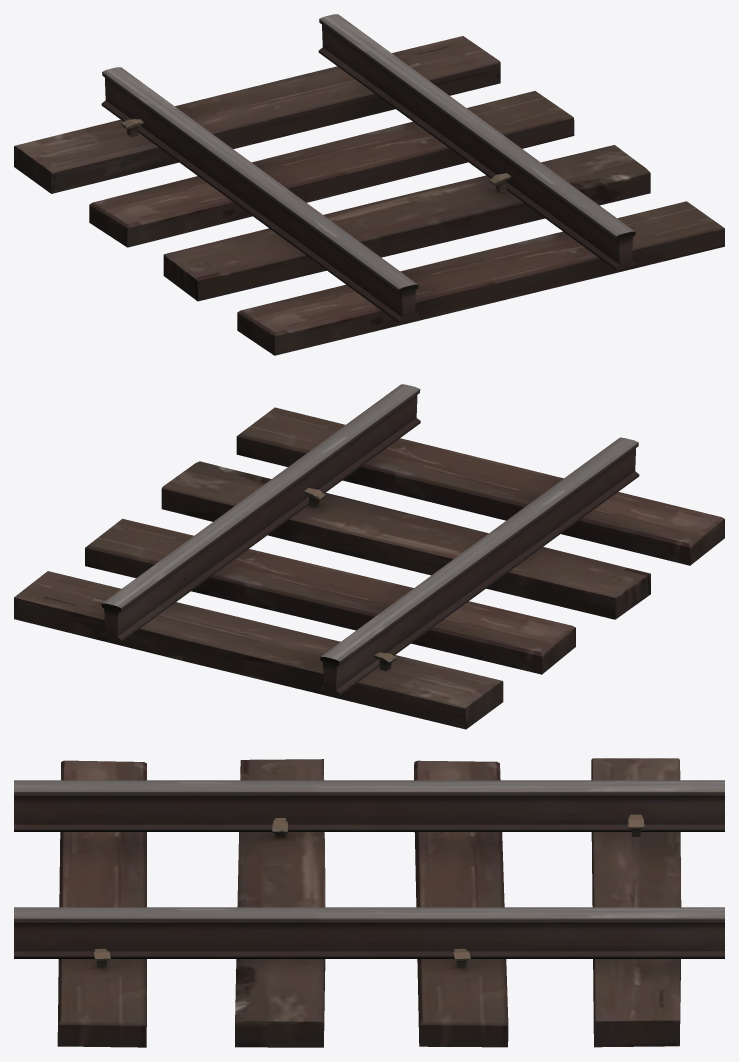
3 views of the same model, one above another, from view 1: azimuth 30°, elevation 25°; view 2: azimuth 150°, elevation 25°; view 3: azimuth 270°, elevation 25° (orthographic). The views are drawn at different scales.
Parts seen in each view (by area): view 1: body0_model0_lod0_mesh0; view 2: body0_model0_lod0_mesh0; view 3: body0_model0_lod0_mesh0.
Part boxes in pixels (x1,y1,x2,y2): body0_model0_lod0_mesh0: (14, 14, 724, 355); body0_model0_lod0_mesh0: (14, 384, 724, 729); body0_model0_lod0_mesh0: (14, 758, 724, 1047).
Bounding box in the file's own units: 56.11 × 6.77 × 64.
Materials: 1 (1 with a texture image).
